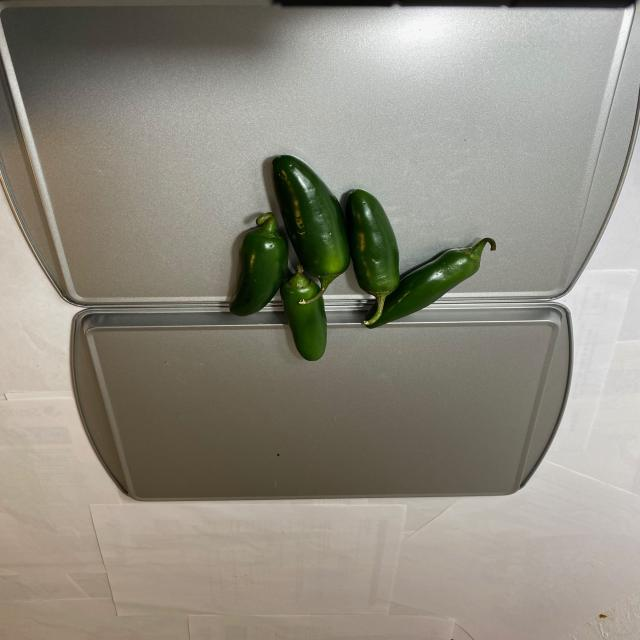chilli: (217, 156, 495, 365)
